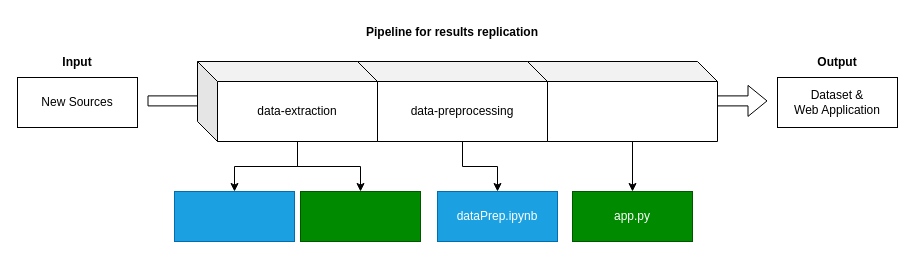
The diagram is 915 pixels wide and 267 high, and some of its shapes have lost their labels. Here are the shapes that lost their labels. From the top down, the centre of each, then its label:
At [622,101]: "app".
At [234,216]: "newsUrls.ipynb".
At [360,216]: "dataExtraction.py".
